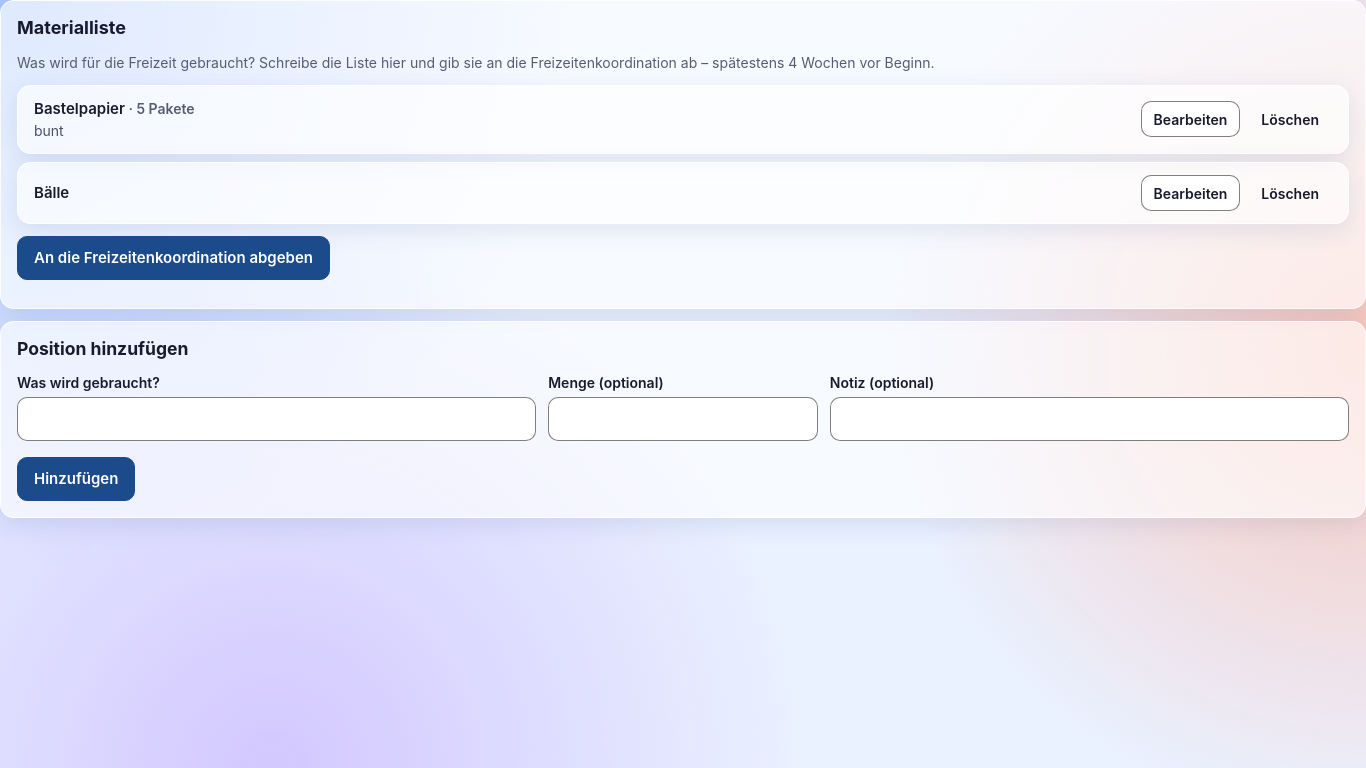
Materialliste (Reiter „Material“) › abgeben mit Rückfrage; die Freizeitenkoordination bekommt eine Mitteilung
Click the button "An die Freizeitenkoordination abgeben".
click(174, 258)  # box [17, 236, 330, 280]
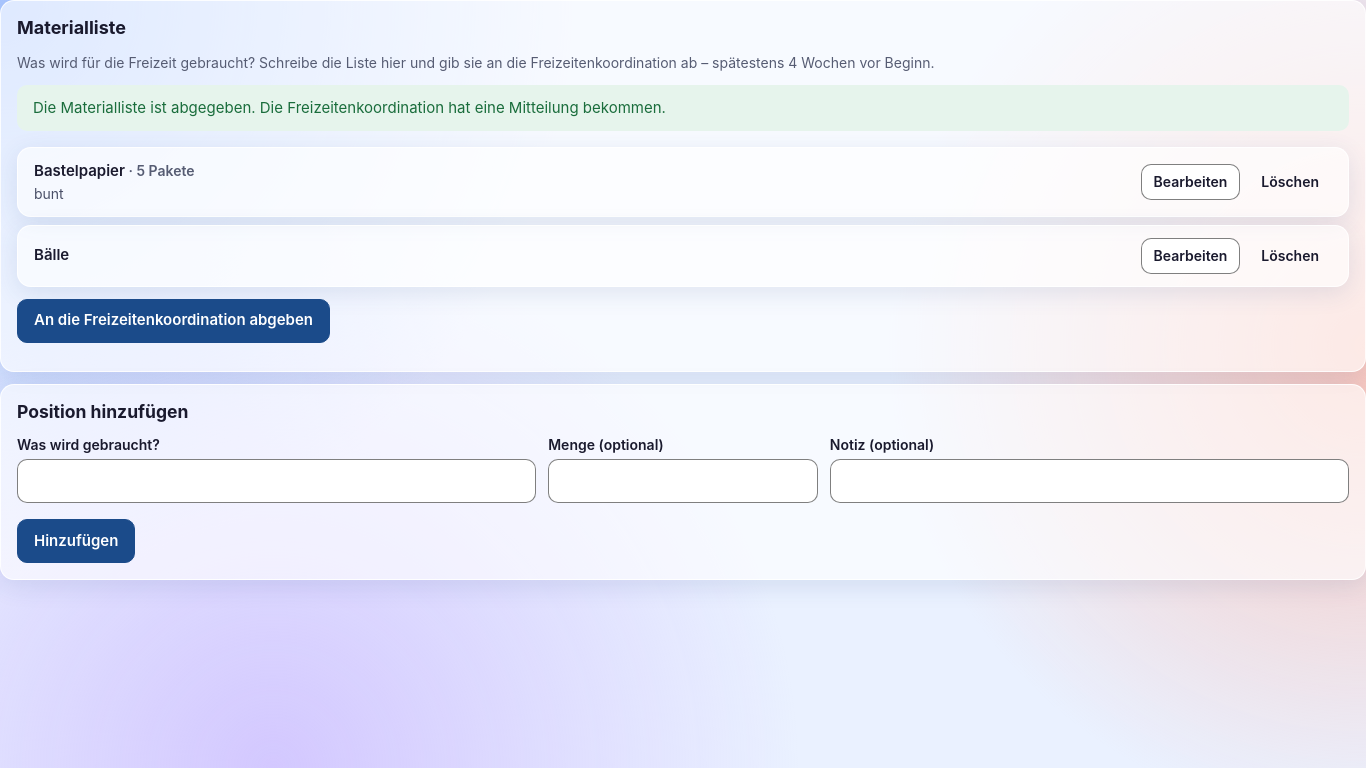
Now the text "Die Materialliste ist abgegeben" is shown, box [33, 98, 666, 116]
